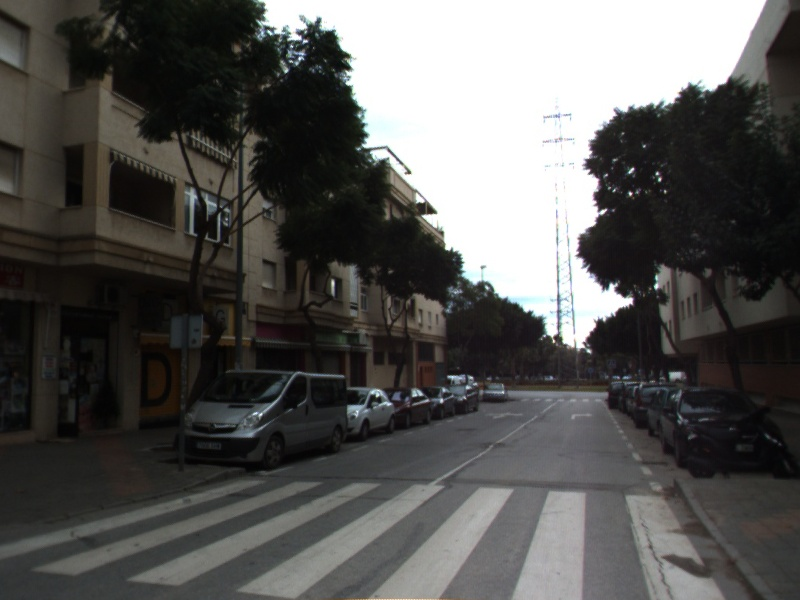RIGHT: (569, 411, 595, 421)
